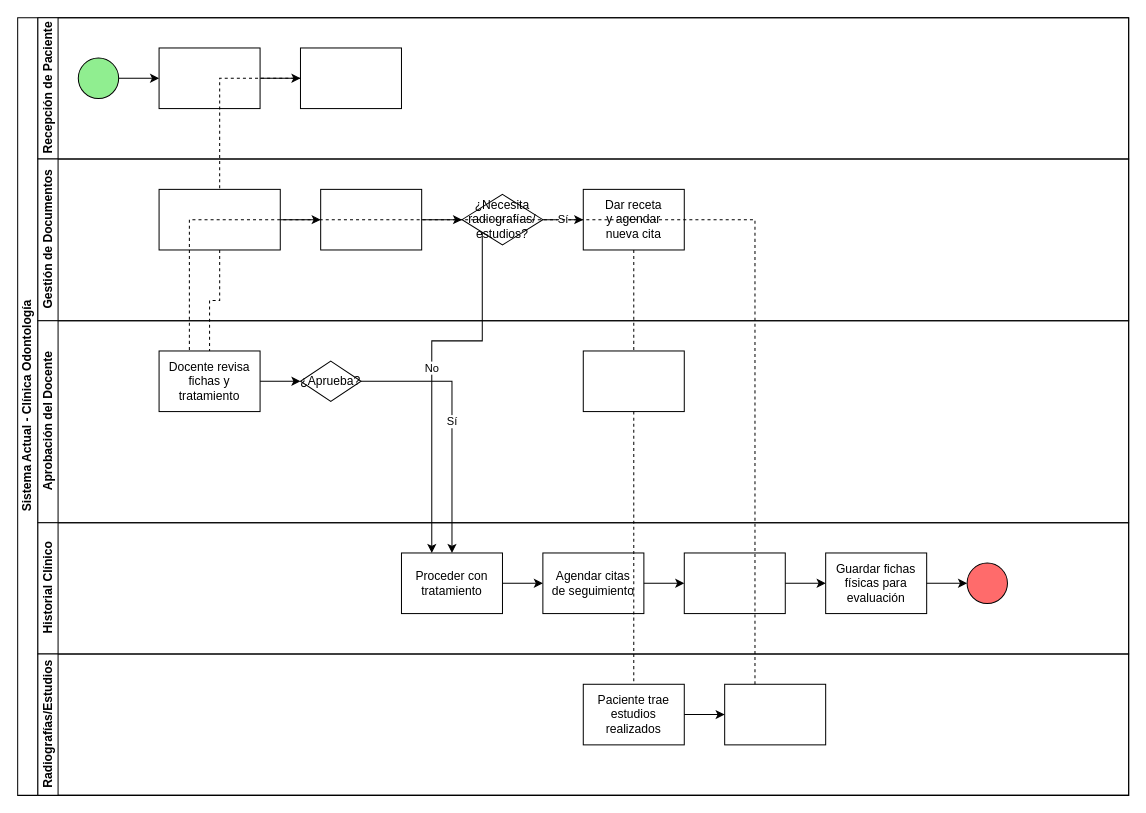
This 1146x813 diagram has some shape labels left out. Here are the shapes that lost their labels. From the top down, the centre of each, then its label:
(x=209, y=78): Llenar ficha del paciente
(x=350, y=78): Encuesta de tamizaje (antecedentes)
(x=219, y=219): Llenar ficha caso clínico (motivo, signos vitales)
(x=371, y=219): Llenar ficha de tratamiento
(x=633, y=381): Revisar estudios adicionales
(x=734, y=583): Cerrar caso clínico
(x=775, y=714): Completar caso clínico con estudios
